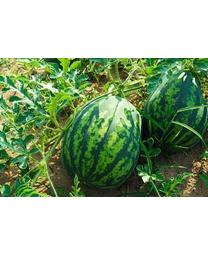watermelon: (61, 95, 142, 190), (141, 64, 207, 151)
